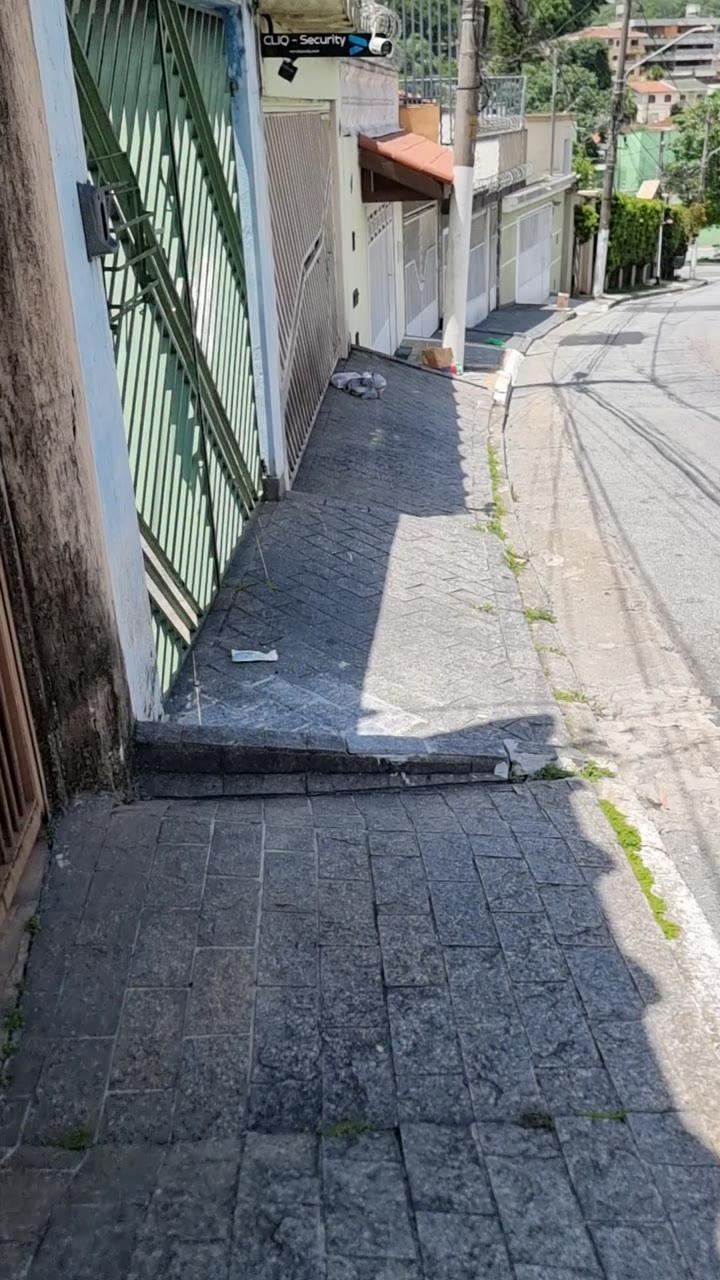desnivel: (130, 678, 504, 768)
obstaculo: (446, 0, 490, 384)
